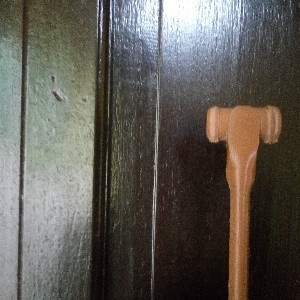palu: (207, 105, 282, 300)
